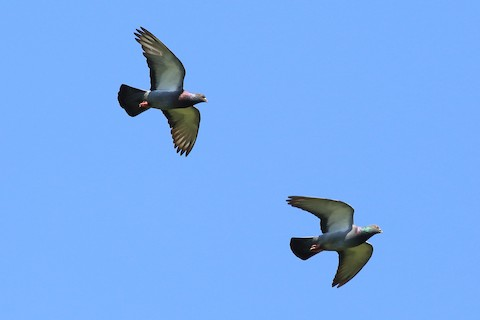pigeon: (116, 23, 214, 158), (281, 189, 386, 290)
